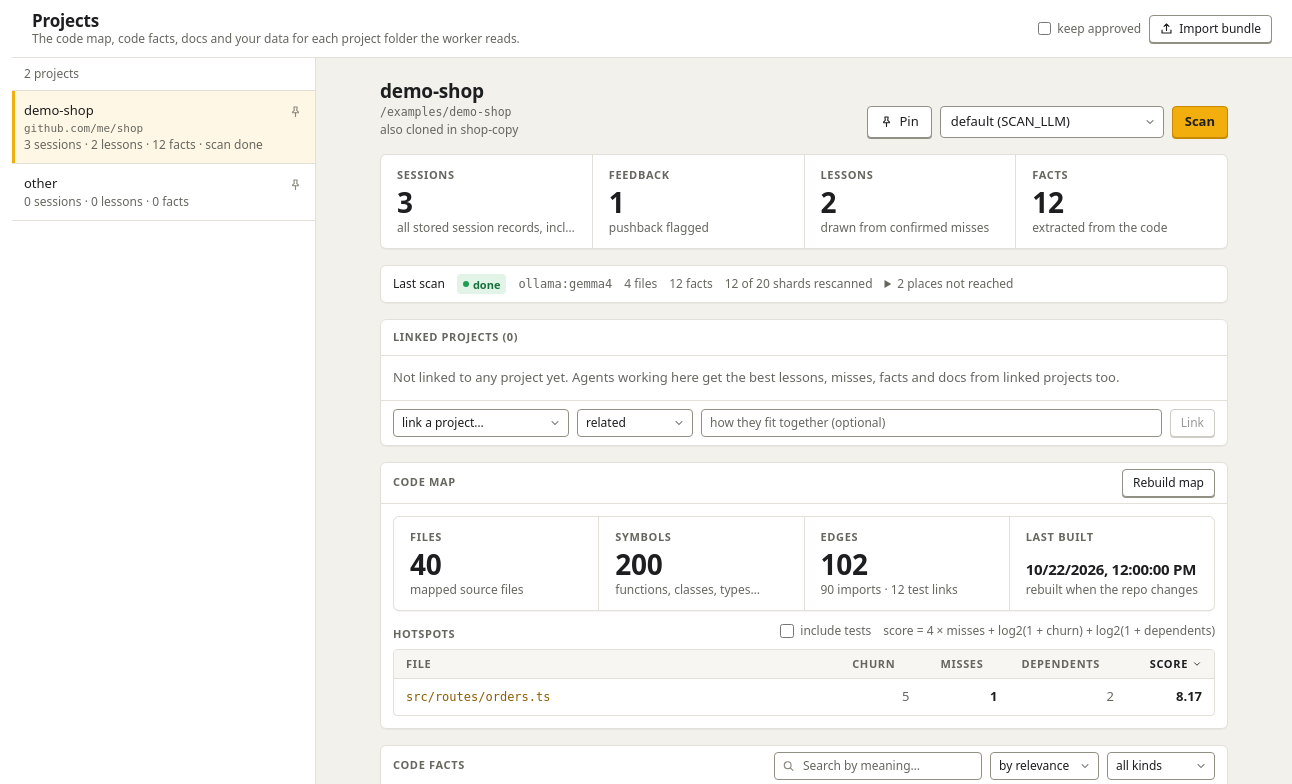
it: the scan line says how many places its agents did not reach, and exposes their list through a keyboard-accessible disclosure
The image size is (1292, 784).
Click the heading "2 places not reached". click: (949, 284)
box: 884,276 -> 1014,292
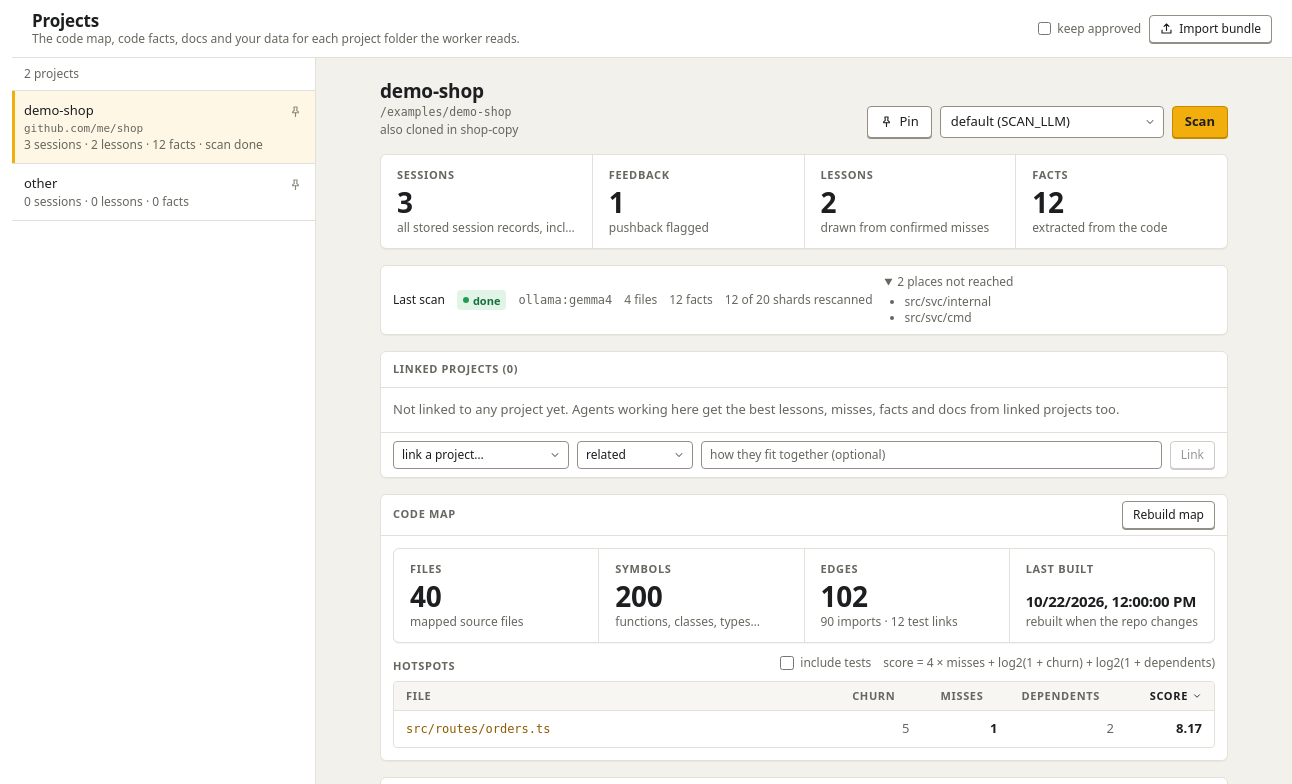
expect the list item "src/svc/internal" is shown: met, box 904,293 -> 991,310
